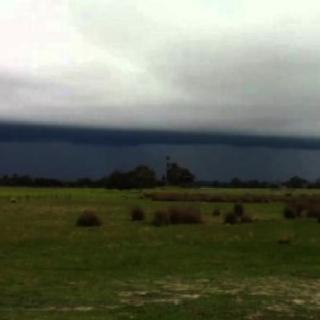Nimbostratus: (0, 0, 320, 151)
